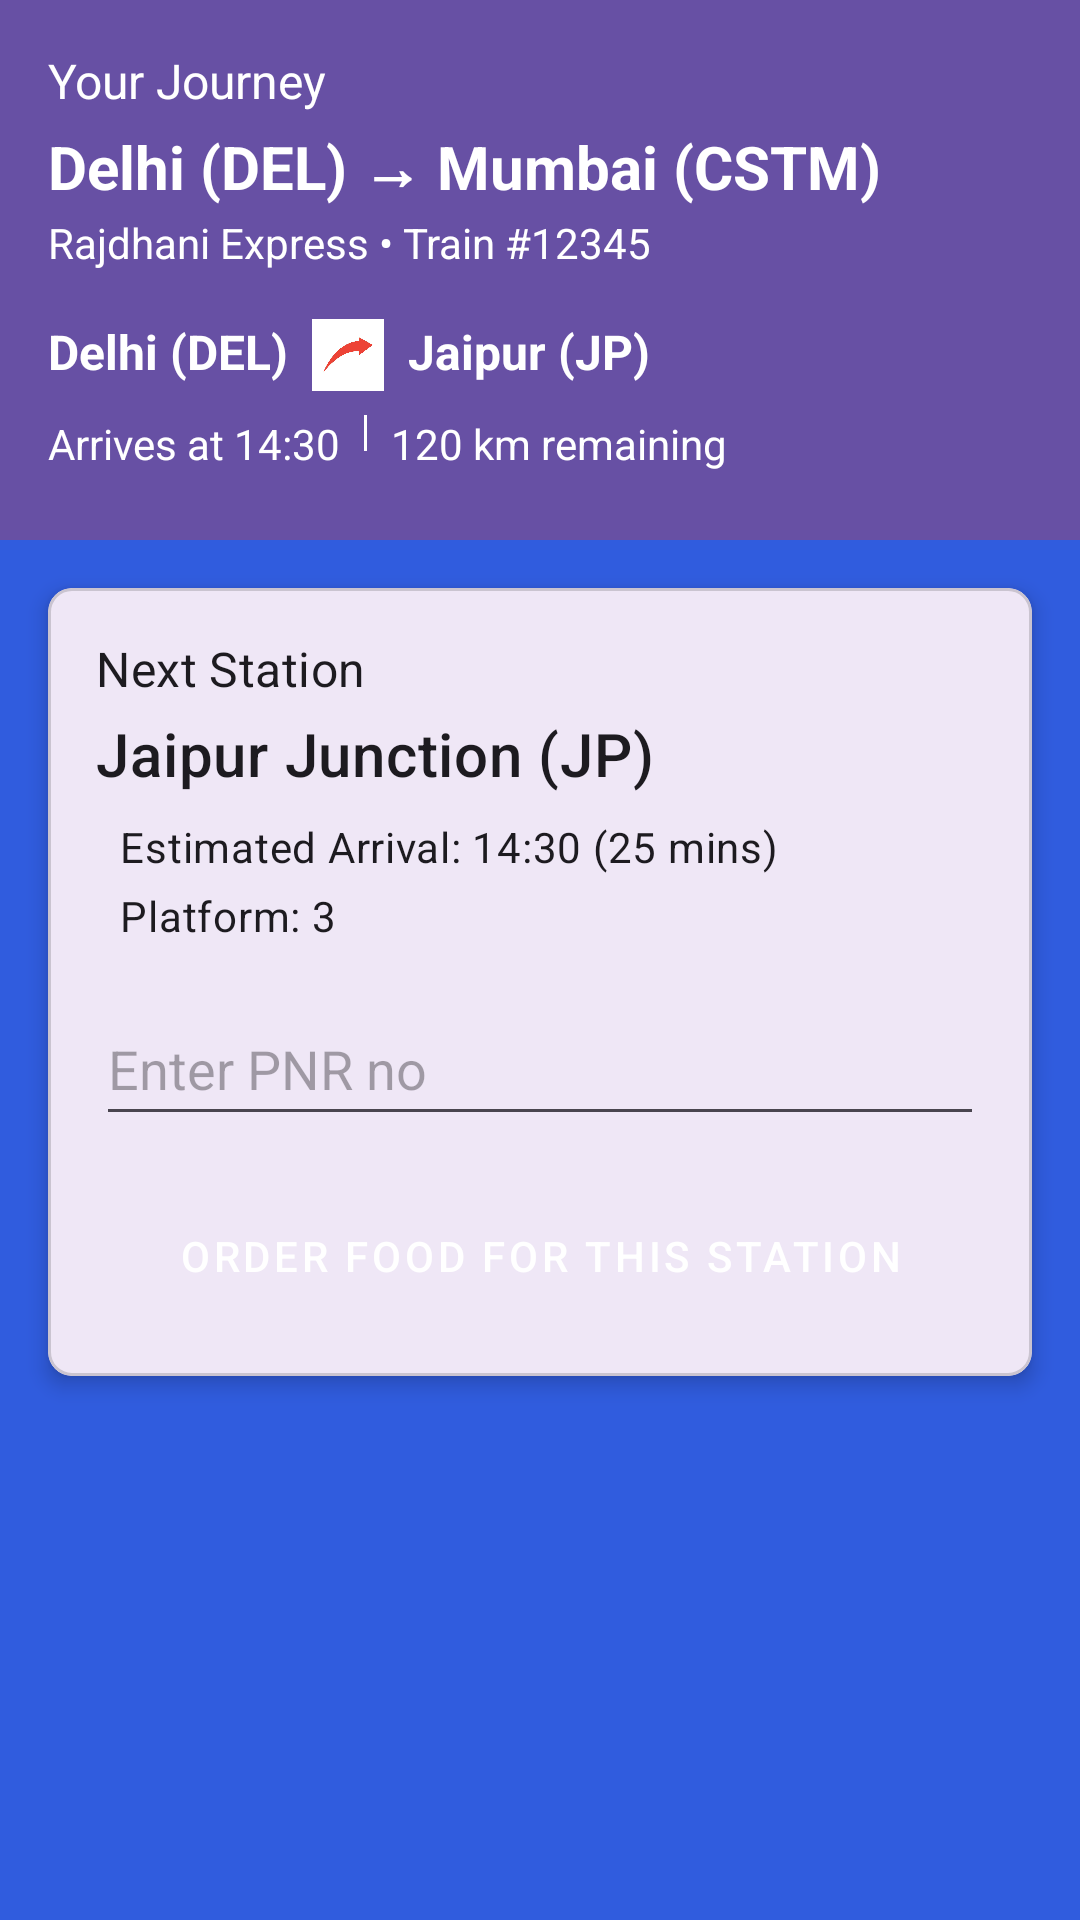

Locate icon controls on the screen. Image size 1080px x 1920px, boxes as (x1, y1, x2, y2).
trainarrow: (312, 319, 384, 391)
